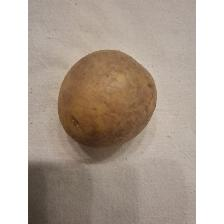Kartoffel: (56, 46, 160, 150)
